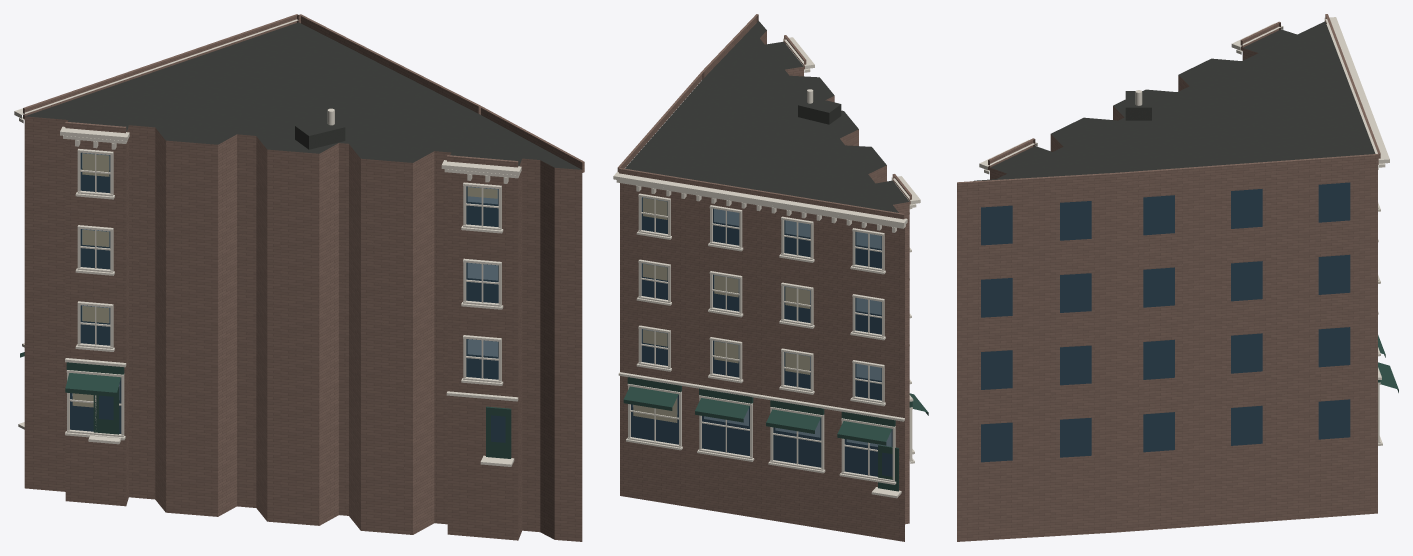
3 views of the same model, side by side, from view 1: azimuth 30°, elevation 25°; view 2: azimuth 150°, elevation 25°; view 3: azimuth 270°, elevation 25° (orthographic). The views are drawn at different scales.
Parts seen in each view (by area): view 1: Footprint 0 / surface 2, Footprint 0 / surface 1, Cornices and window frames, Facade bay volumes, Inset glazing, Storefronts and doors, Interior blind variation, Sky reflection panels; view 2: Footprint 0 / surface 2, Footprint 0 / surface 1, Cornices and window frames, Inset glazing, Storefronts and doors, Facade bay volumes, Interior blind variation, Sky reflection panels, Inferred rooftop service enclosure / surface 6; view 3: Footprint 0 / surface 2, Footprint 0 / surface 1, Inset glazing, Facade bay volumes, Cornices and window frames.
Part boxes in pixels (bbox=[...]): Footprint 0 / surface 2: bbox=[24, 116, 582, 541]; Footprint 0 / surface 1: bbox=[25, 22, 581, 169]; Cornices and window frames: bbox=[14, 19, 521, 466]; Facade bay volumes: bbox=[23, 14, 584, 172]; Inset glazing: bbox=[70, 152, 505, 442]; Storefronts and doors: bbox=[20, 352, 511, 458]; Interior blind variation: bbox=[72, 153, 497, 407]; Sky reflection panels: bbox=[72, 153, 497, 399]; Footprint 0 / surface 2: bbox=[620, 31, 909, 541]; Footprint 0 / surface 1: bbox=[625, 21, 909, 212]; Cornices and window frames: bbox=[613, 37, 920, 498]; Inset glazing: bbox=[631, 197, 892, 476]; Storefronts and doors: bbox=[623, 377, 928, 491]; Facade bay volumes: bbox=[617, 14, 911, 219]; Interior blind variation: bbox=[633, 198, 809, 422]; Sky reflection panels: bbox=[632, 197, 891, 446]; Inferred rooftop service enclosure / surface 6: bbox=[798, 105, 829, 124]; Footprint 0 / surface 2: bbox=[957, 48, 1377, 541]; Footprint 0 / surface 1: bbox=[973, 21, 1375, 181]; Inset glazing: bbox=[981, 182, 1350, 462]; Facade bay volumes: bbox=[957, 14, 1380, 193]; Cornices and window frames: bbox=[979, 17, 1389, 445].
Size of the model in its own units: 18.37 by 18.94 by 20.02.
